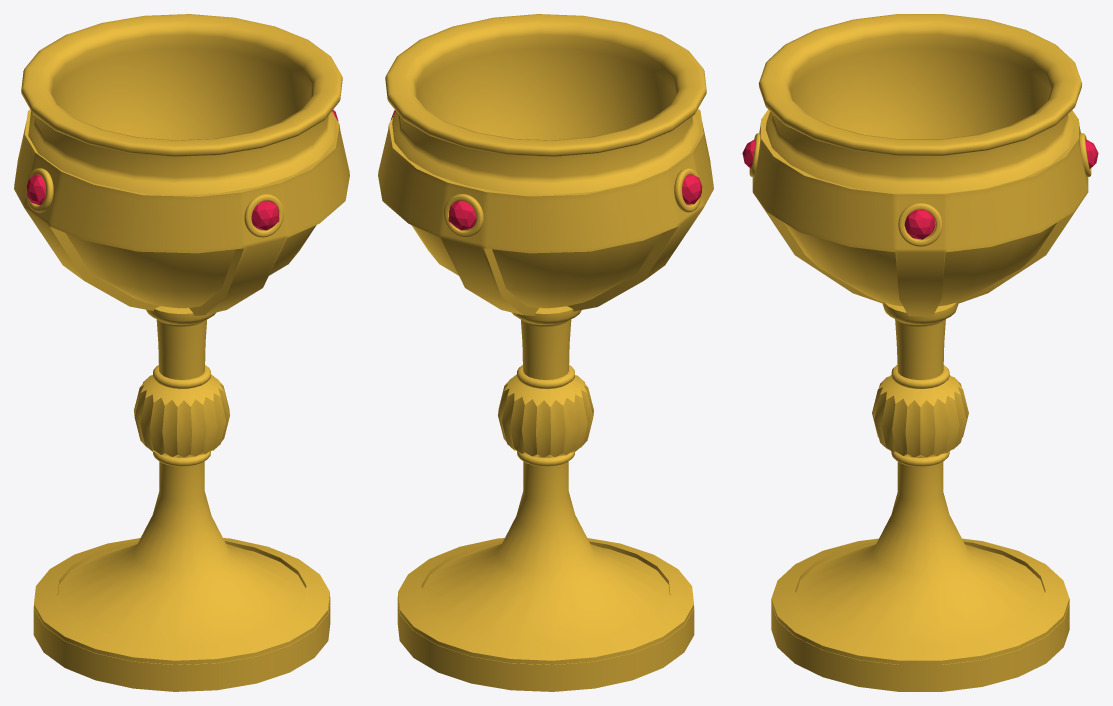
The model's file is goblet.fbx.
3 views of the same model, side by side, from view 1: azimuth 30°, elevation 25°; view 2: azimuth 150°, elevation 25°; view 3: azimuth 270°, elevation 25° (orthographic).
Visible parts, largest first — view 1: goblet, goblet part, goblet.001, gem goblet; view 2: goblet, goblet part, goblet.001, gem goblet; view 3: goblet, goblet part, goblet.001, gem goblet.
Boxes of the visible parts, bbox=[...] form: goblet: bbox=[14, 14, 349, 691]; goblet part: bbox=[134, 374, 229, 457]; goblet.001: bbox=[26, 168, 283, 237]; gem goblet: bbox=[26, 109, 338, 230]; goblet: bbox=[378, 14, 713, 691]; goblet part: bbox=[498, 374, 593, 457]; goblet.001: bbox=[444, 168, 701, 237]; gem goblet: bbox=[390, 110, 702, 230]; goblet: bbox=[752, 14, 1088, 691]; goblet part: bbox=[872, 375, 968, 457]; goblet.001: bbox=[749, 133, 1091, 246]; gem goblet: bbox=[742, 139, 1098, 239].
Bounding box in the file's own units: 92.78 × 158 × 92.78.
